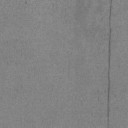surface scratch: (107, 28, 112, 118), (109, 5, 112, 21)
